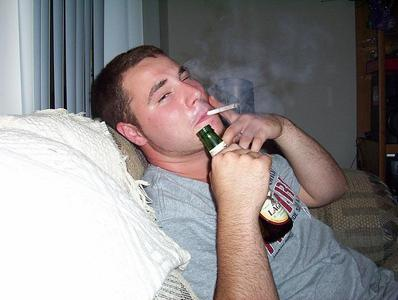person: (89, 43, 398, 299)
